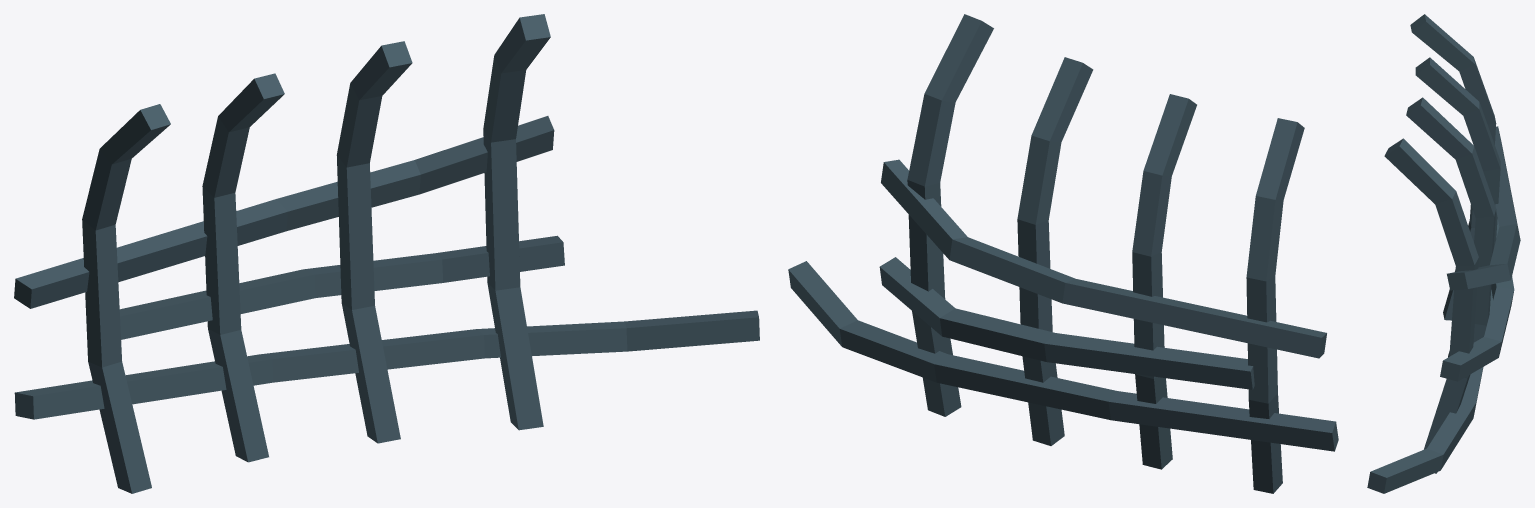
Rendered from Ship_046.glb.
The picture shows the model from 3 angles, left to right: view 1: azimuth 30°, elevation 25°; view 2: azimuth 150°, elevation 25°; view 3: azimuth 270°, elevation 25°; orthographic projection. The views are drawn at different scales.
Visible parts, largest first — view 1: Ship_046; view 2: Ship_046; view 3: Ship_046.
Boxes of the visible parts, x1,y1,x2,y2 form: Ship_046: (14, 14, 759, 493); Ship_046: (788, 14, 1338, 493); Ship_046: (1367, 14, 1520, 493).
Bounding box in the file's own units: 6.17 × 3.73 × 1.61.
Materials: 1 (1 with a texture image).
